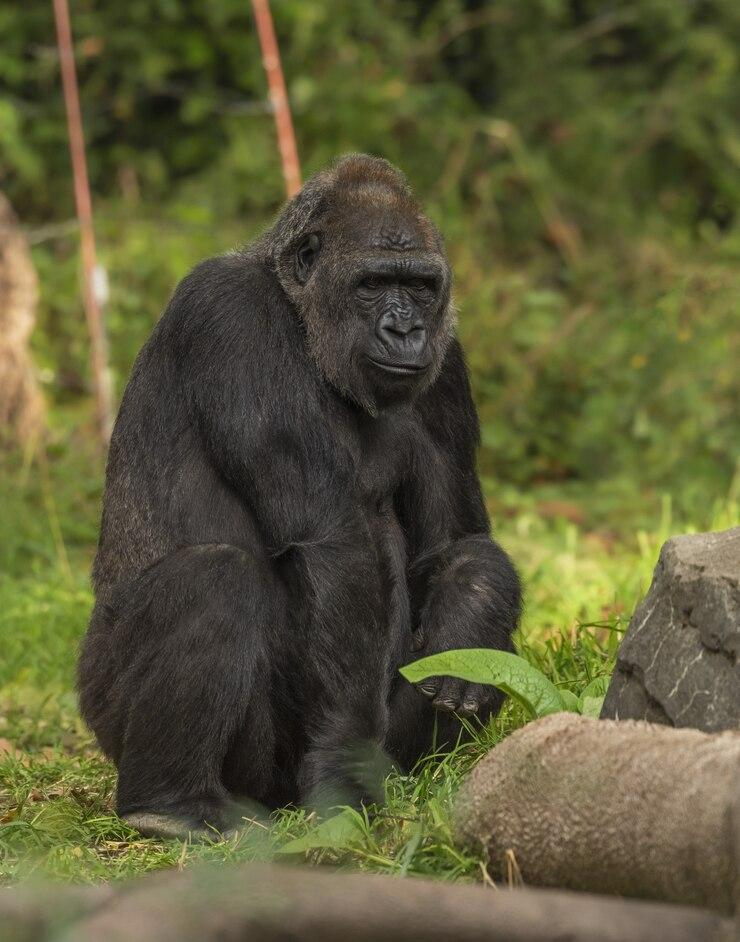gorille_Autres: (88, 160, 518, 819)
